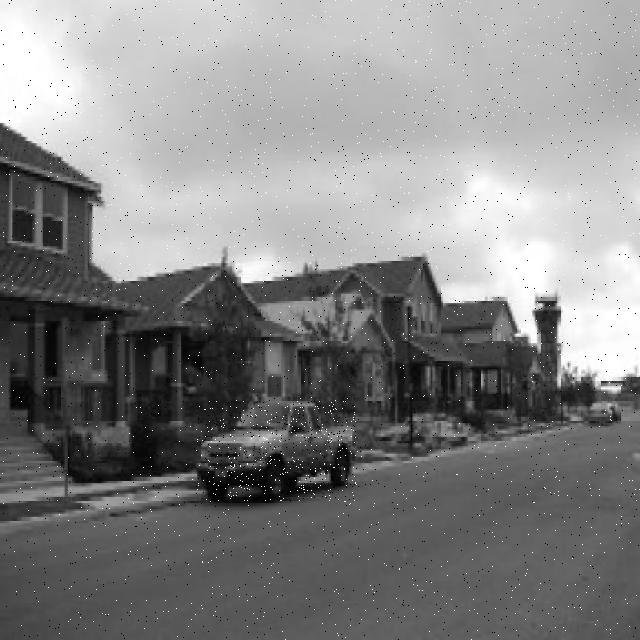Pickup: (196, 401, 357, 502)
